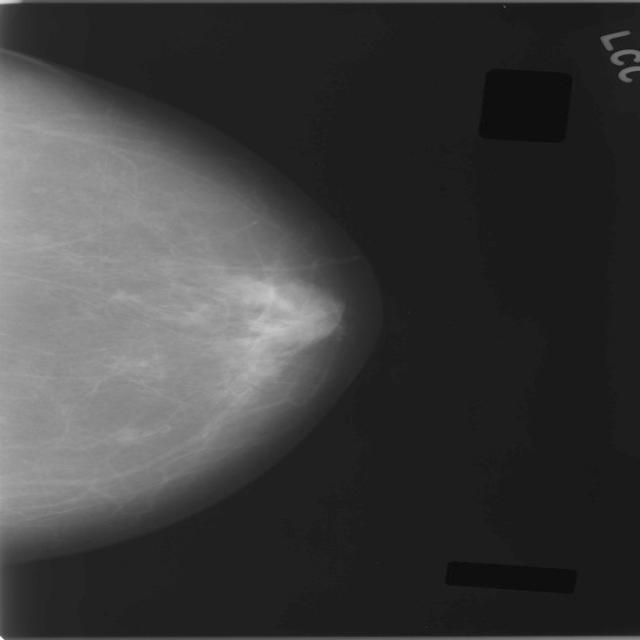tumour: (114, 427, 140, 447)
